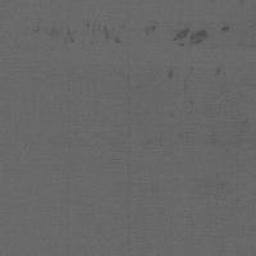Inclusion: (174, 28, 208, 47), (145, 25, 157, 35), (67, 30, 74, 43), (104, 26, 110, 39), (33, 26, 40, 33), (168, 70, 174, 78), (221, 26, 229, 31)
